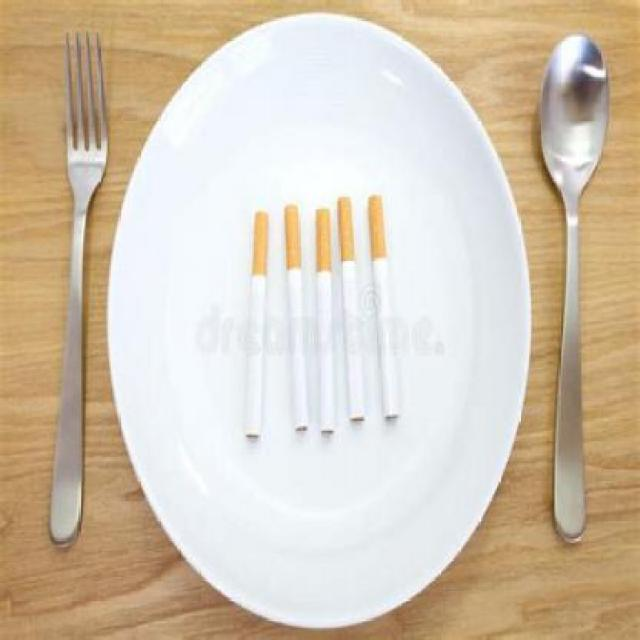cigarette: (362, 191, 404, 423), (278, 201, 312, 441), (308, 193, 339, 447), (335, 191, 367, 435), (240, 205, 268, 446)
